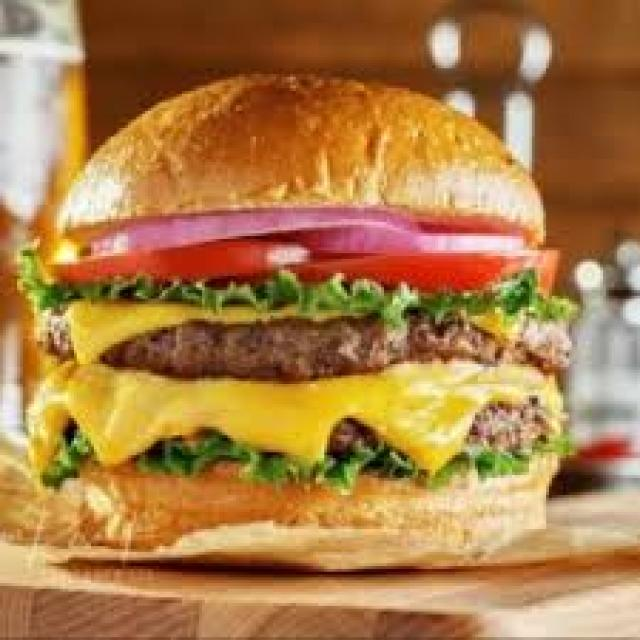햄버거: (0, 74, 577, 577)
